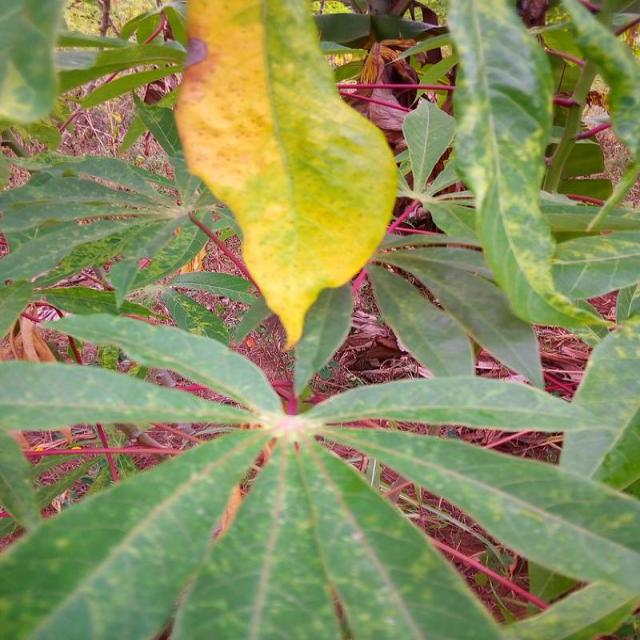cassava leaf: (0, 0, 638, 638), (172, 0, 398, 350), (445, 0, 609, 338)
